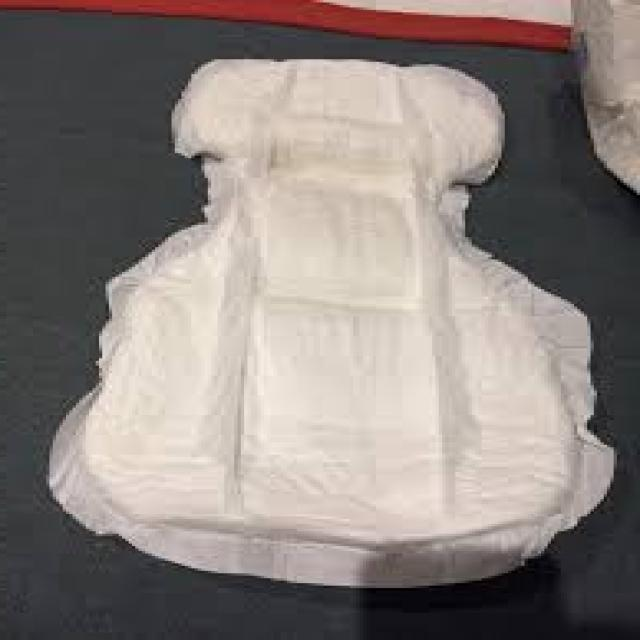B3: (128, 58, 564, 551)
